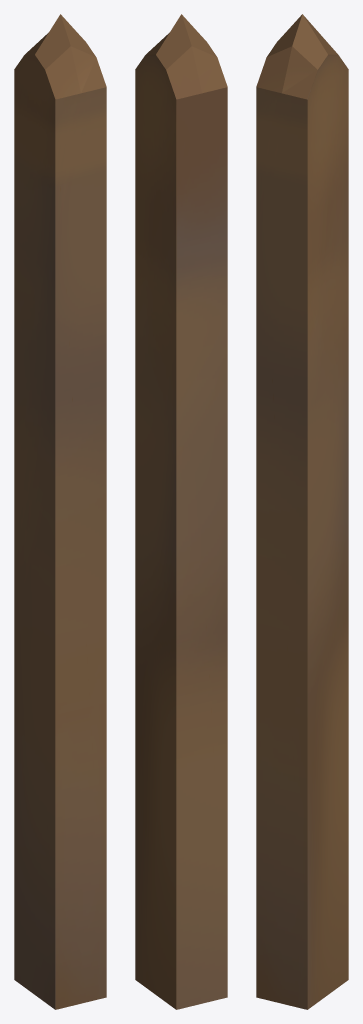
File: ToothPick.fbx
3 views of the same model, side by side, from view 1: azimuth 30°, elevation 25°; view 2: azimuth 210°, elevation 25°; view 3: azimuth 330°, elevation 25° (orthographic).
Visible parts, largest first — view 1: Cube.001; view 2: Cube.001; view 3: Cube.001.
Boxes of the visible parts, <box> form: Cube.001: <box>14,14,106,1009</box>; Cube.001: <box>135,14,227,1009</box>; Cube.001: <box>256,14,348,1009</box>.
Bounding box in the file's own units: 28 × 508 × 38.92.
